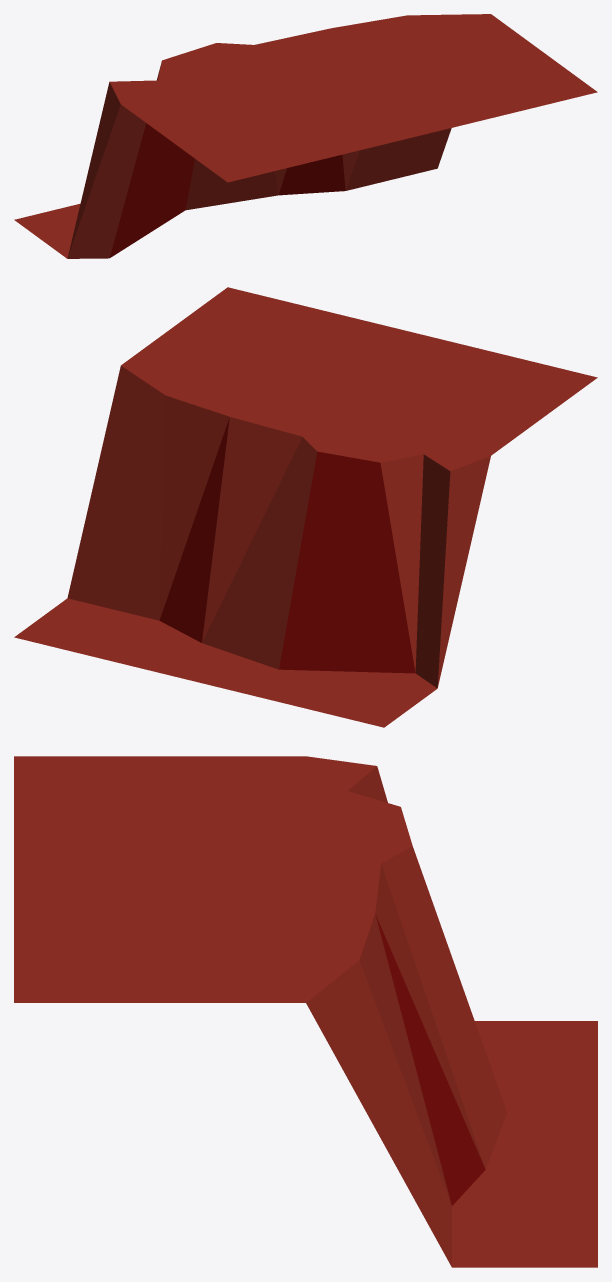
Rendered from Border_3.fbx.
3 renders of one model, top to bottom at view 1: azimuth 30°, elevation 25°; view 2: azimuth 150°, elevation 25°; view 3: azimuth 270°, elevation 25°, orthographic. The views are drawn at different scales.
Parts seen in each view (by area): view 1: Plane.040; view 2: Plane.040; view 3: Plane.040.
Boxes of the visible parts, x1,y1,x2,y2 form: Plane.040: (14,14,597,258); Plane.040: (14,287,597,727); Plane.040: (14,756,597,1267).
Bounding box in the file's own units: 200 × 100 × 200.
